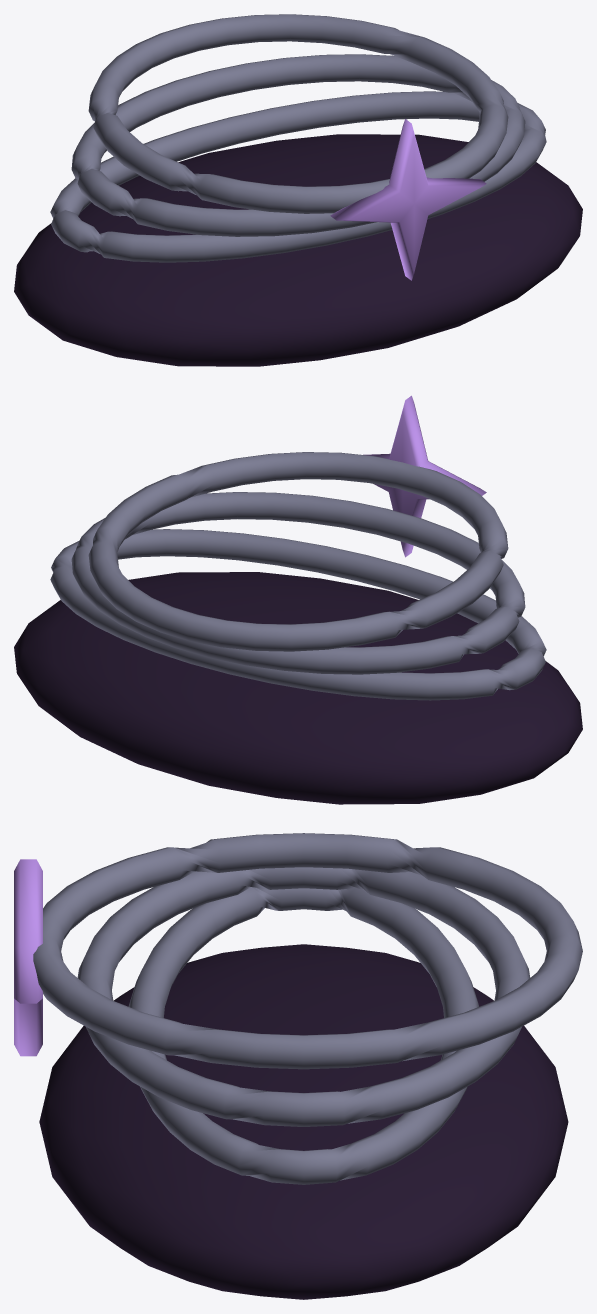
The model's file is noir_shoulder_arc.glb.
The picture shows the model from 3 angles, top to bottom: view 1: azimuth 30°, elevation 25°; view 2: azimuth 150°, elevation 25°; view 3: azimuth 270°, elevation 25°; orthographic projection. The views are drawn at different scales.
Visible parts, largest first — view 1: noir_shoulder_arc_dark, noir_shoulder_arc_metal, noir_shoulder_arc_gem; view 2: noir_shoulder_arc_dark, noir_shoulder_arc_metal, noir_shoulder_arc_gem; view 3: noir_shoulder_arc_dark, noir_shoulder_arc_metal, noir_shoulder_arc_gem.
Part boxes in pixels (bbox=[...]): noir_shoulder_arc_dark: bbox=[14, 134, 582, 366]; noir_shoulder_arc_metal: bbox=[50, 14, 546, 262]; noir_shoulder_arc_gem: bbox=[330, 119, 486, 280]; noir_shoulder_arc_dark: bbox=[14, 572, 582, 804]; noir_shoulder_arc_metal: bbox=[50, 452, 546, 700]; noir_shoulder_arc_gem: bbox=[363, 395, 486, 557]; noir_shoulder_arc_dark: bbox=[39, 944, 568, 1299]; noir_shoulder_arc_metal: bbox=[33, 833, 582, 1184]; noir_shoulder_arc_gem: bbox=[14, 859, 42, 1056].
Size of the model in its own units: 0.106 by 0.0515 by 0.0785.
